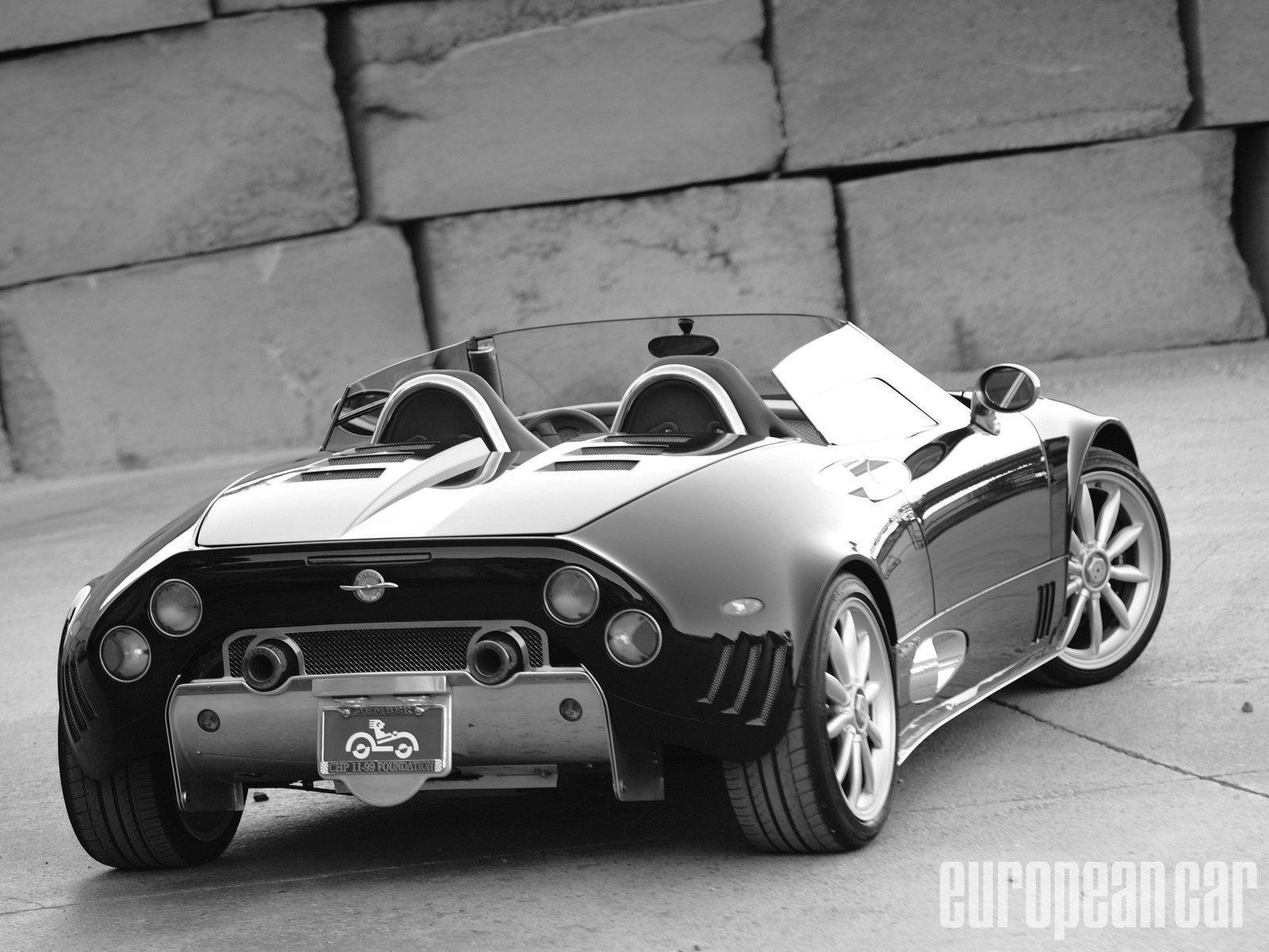car: (48, 308, 1181, 884)
